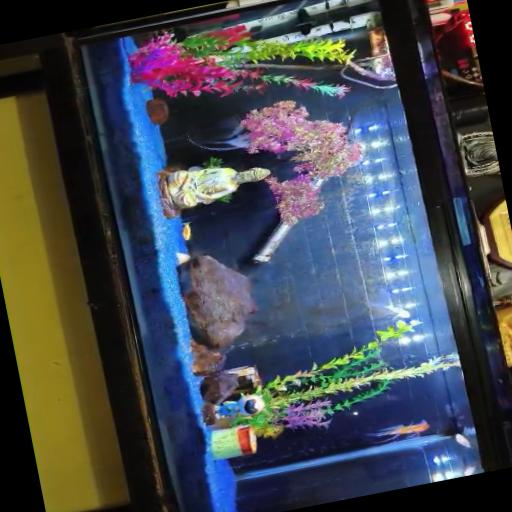Fish: (366, 420, 429, 438), (369, 302, 410, 318), (384, 304, 410, 317), (453, 433, 470, 447), (181, 222, 190, 239), (462, 465, 475, 476)
